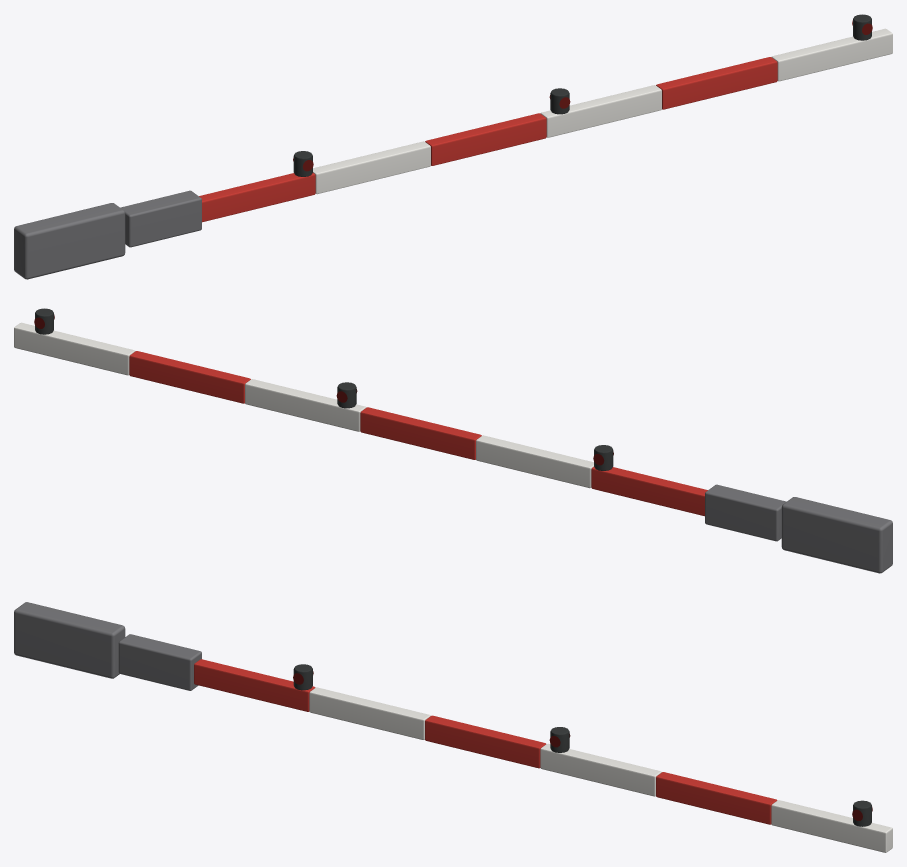
Rendered from rail.crossing.boom_4.glb.
3 views of the same model, one above another, from view 1: azimuth 30°, elevation 25°; view 2: azimuth 150°, elevation 25°; view 3: azimuth 330°, elevation 25° (orthographic).
Parts seen in each view (by area): view 1: main__paint_c33, main__galv_777, main__paint_eee, main__paint_333; view 2: main__paint_c33, main__galv_777, main__paint_eee, main__paint_333; view 3: main__paint_eee, main__paint_c33, main__galv_777, main__paint_333.
Part boxes in pixels (x1,y1,x2,y2): main__paint_c33: (199, 57, 777, 222); main__galv_777: (14, 190, 201, 279); main__paint_eee: (313, 28, 892, 194); main__paint_333: (293, 14, 871, 176); main__paint_c33: (129, 351, 707, 516); main__galv_777: (705, 484, 892, 573); main__paint_eee: (14, 322, 593, 488); main__paint_333: (35, 308, 613, 470); main__paint_eee: (309, 687, 892, 852); main__paint_c33: (194, 659, 777, 824); main__galv_777: (14, 602, 201, 690); main__paint_333: (293, 664, 871, 826).
Size of the model in its own units: 4.75 by 0.275 by 0.12.
